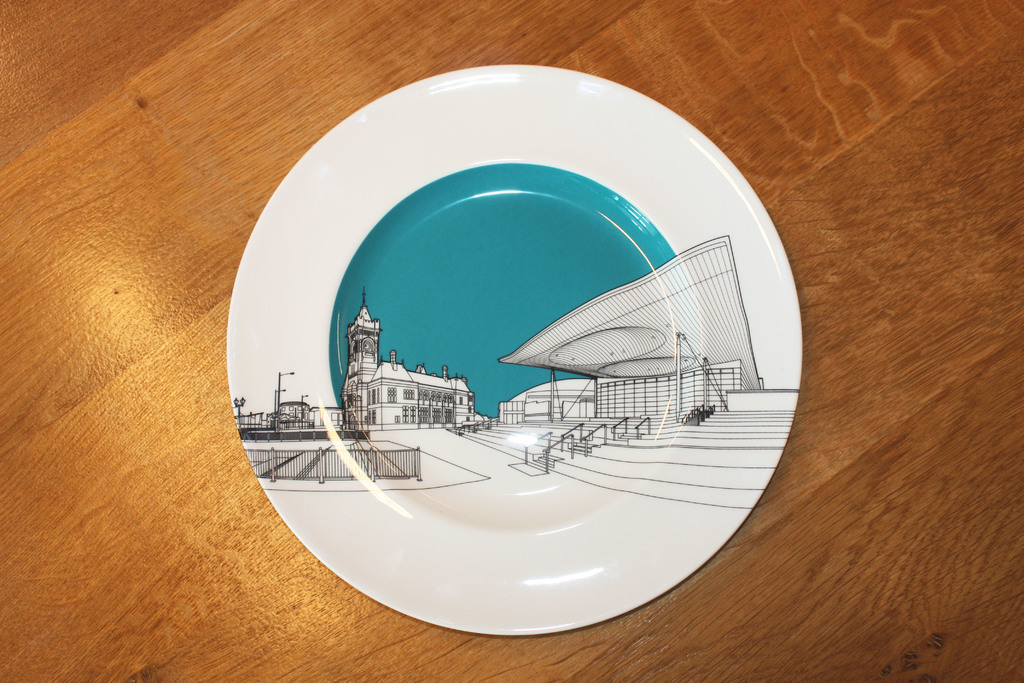plate: (225, 62, 802, 633)
